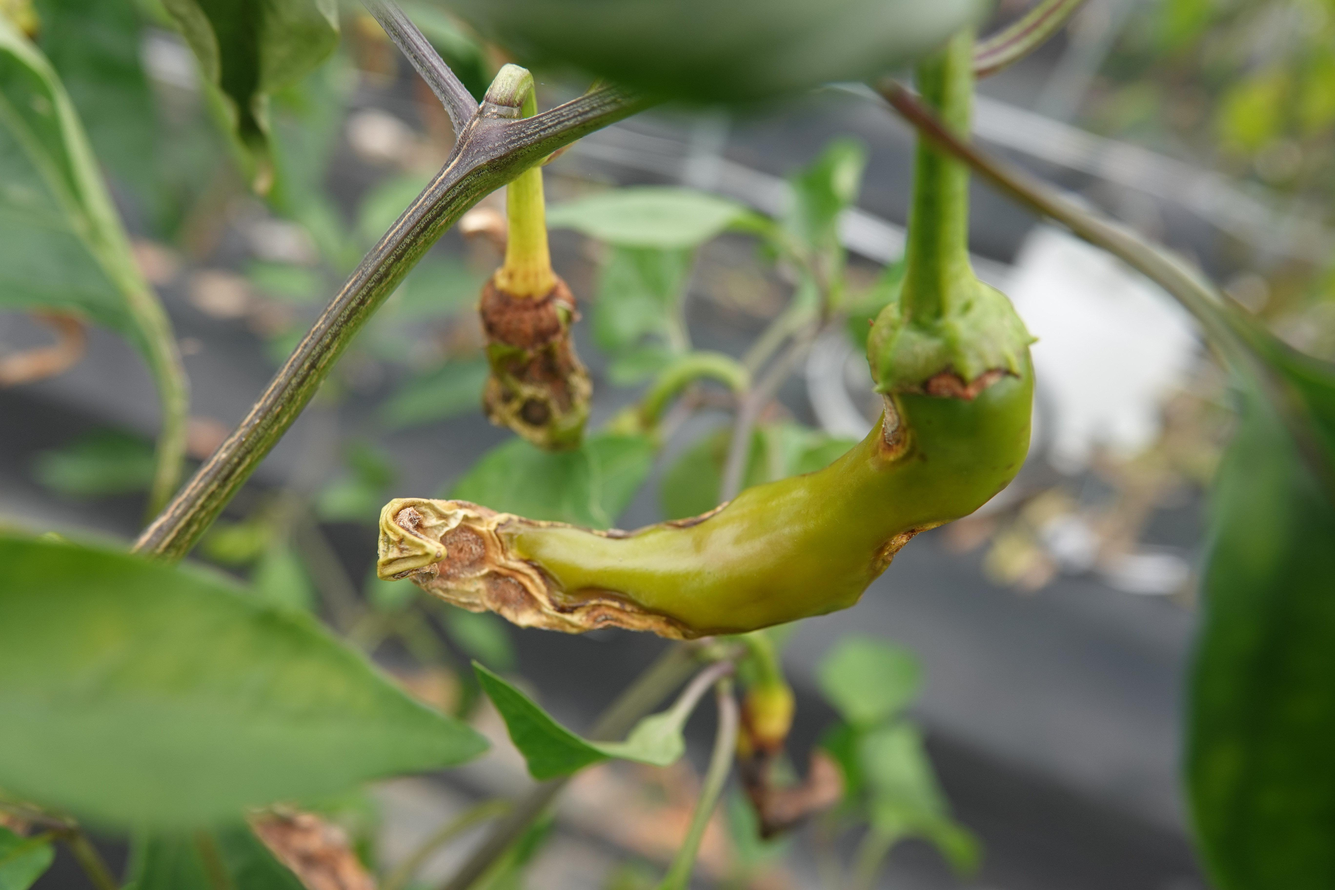Busuk Buah Antraknosa: (374, 274, 1039, 643)
